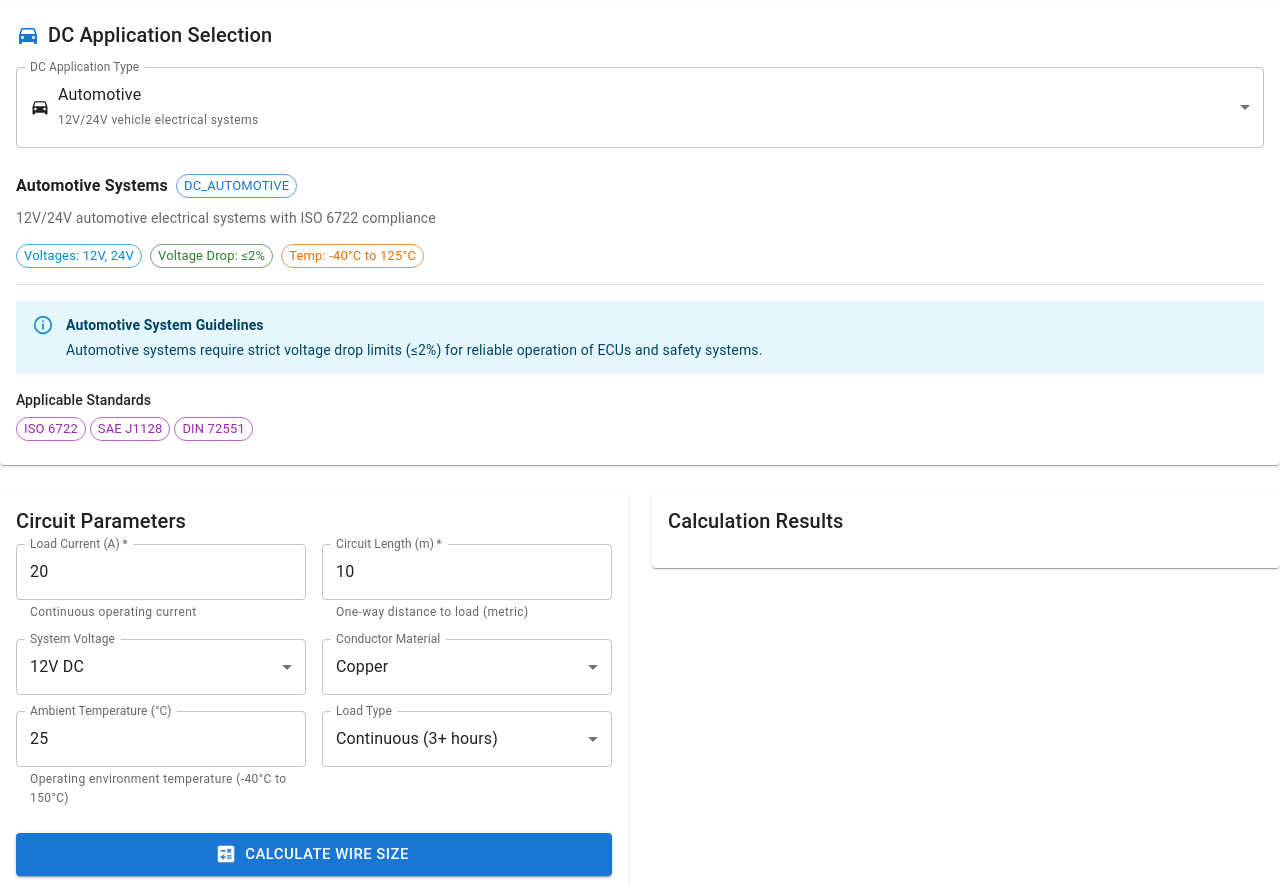
Test case: DC Wire Calculator Standard Selection › Calculation Integration › should perform automotive calculation
(page scrolled)
# Trigger calculation
Click the button "Calculate Wire Size": {"x": 314, "y": 854} [16,833,612,876]
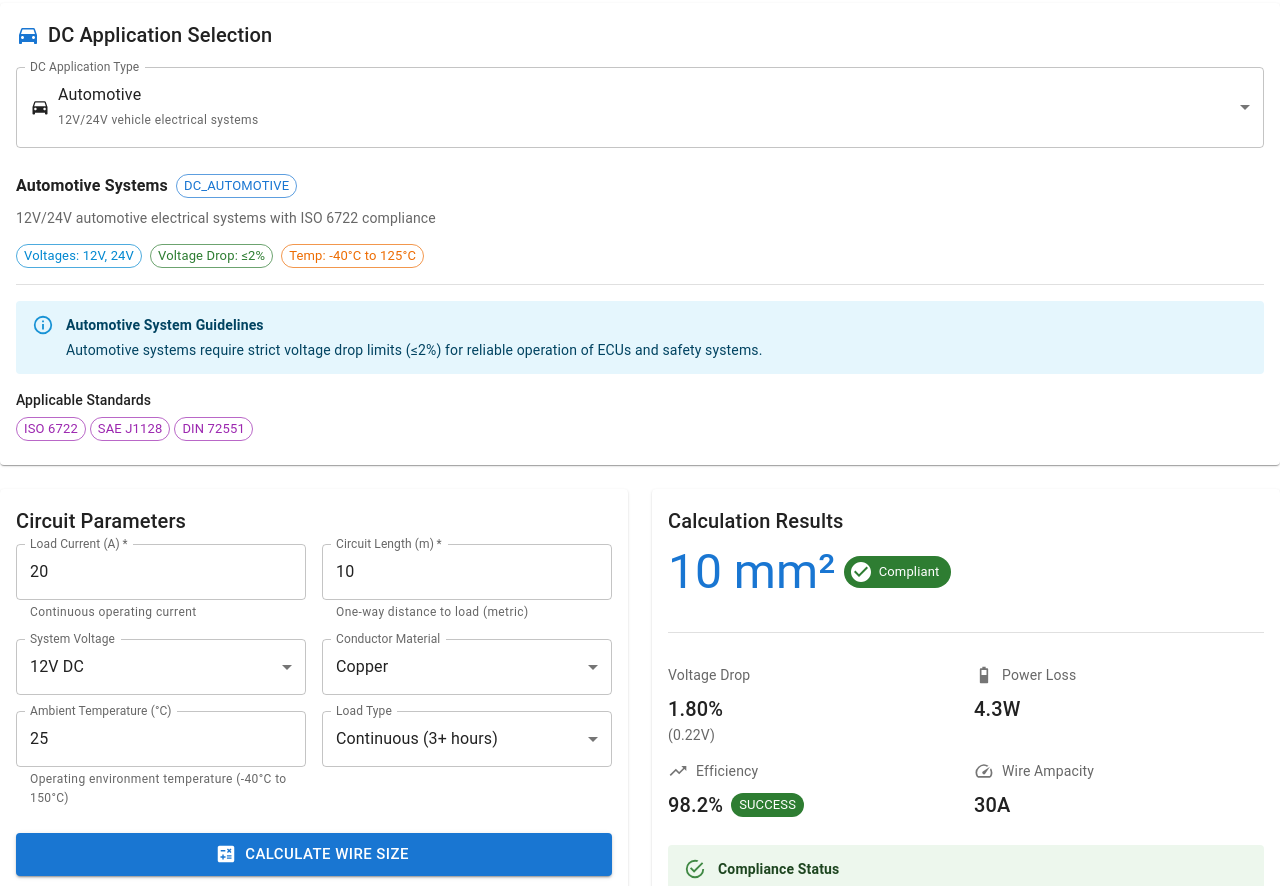
Expected: the heading "10 mm²" is shown, [668,544,836,600]
Expected: the text "Compliant" is shown, [879,564,940,579]
